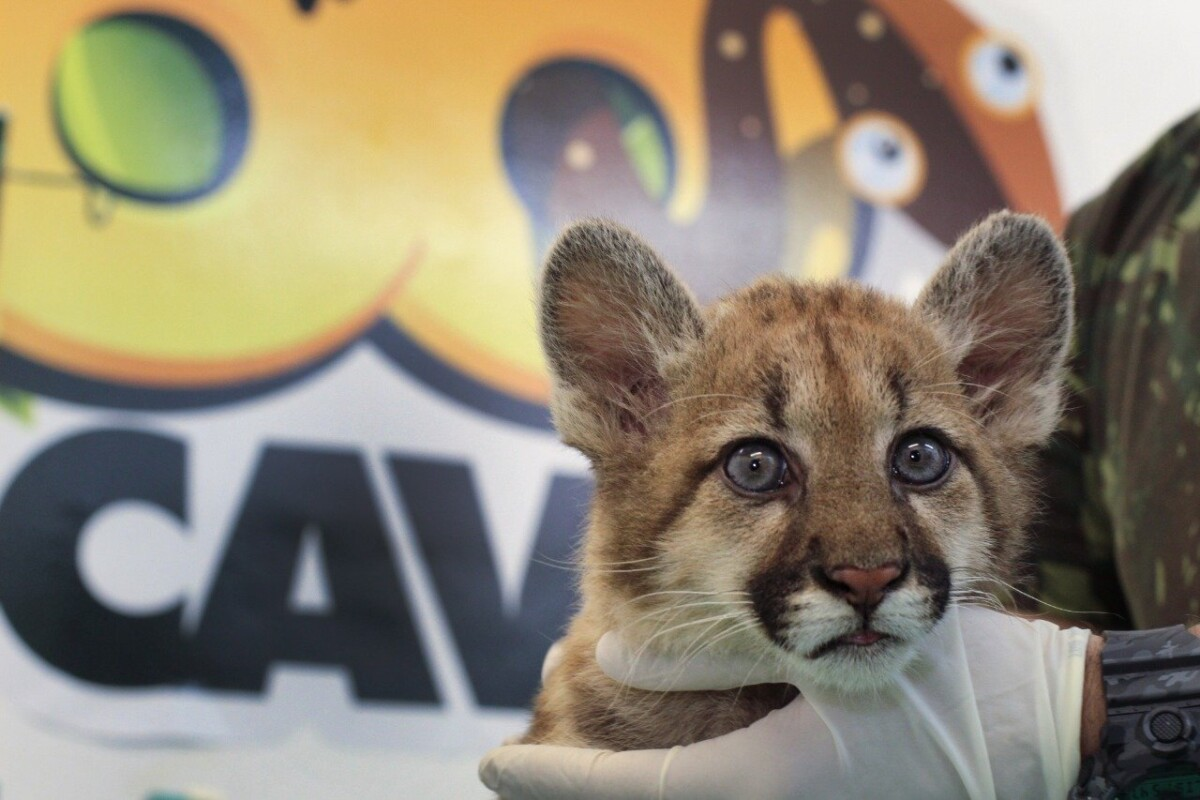OncaParda: (515, 194, 1087, 741)
